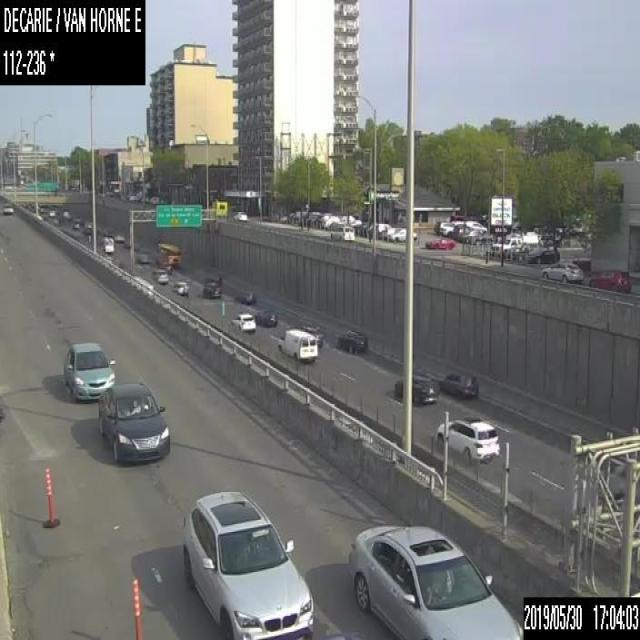Car: (348, 524, 524, 639), (181, 490, 314, 639), (96, 381, 170, 464), (62, 341, 116, 402)
Traffic-sign: (154, 203, 202, 228)
